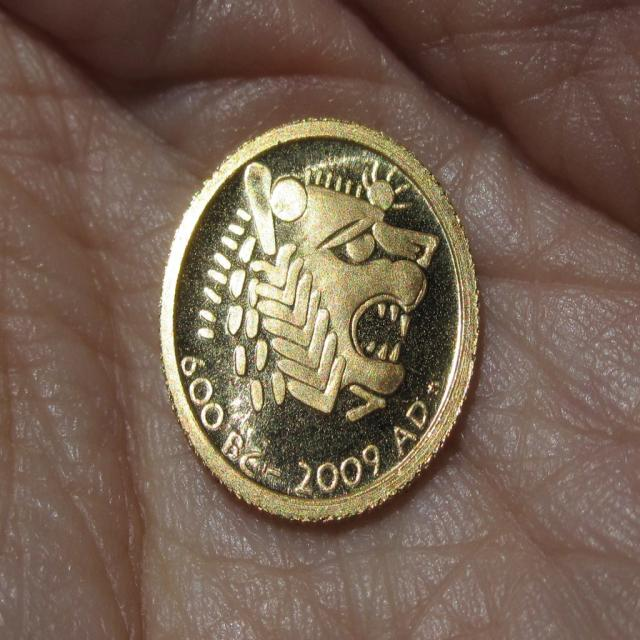Coin: (160, 118, 481, 522)
